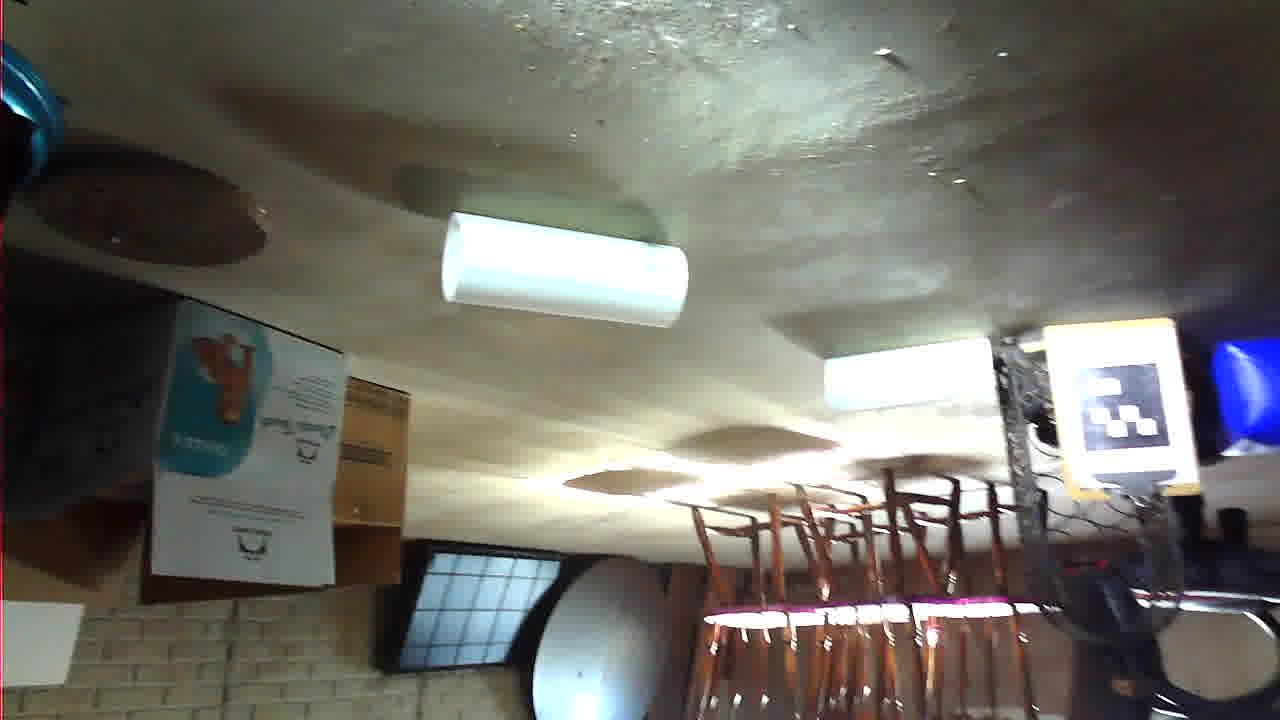coral: (592, 392, 837, 508), (283, 307, 467, 367)
